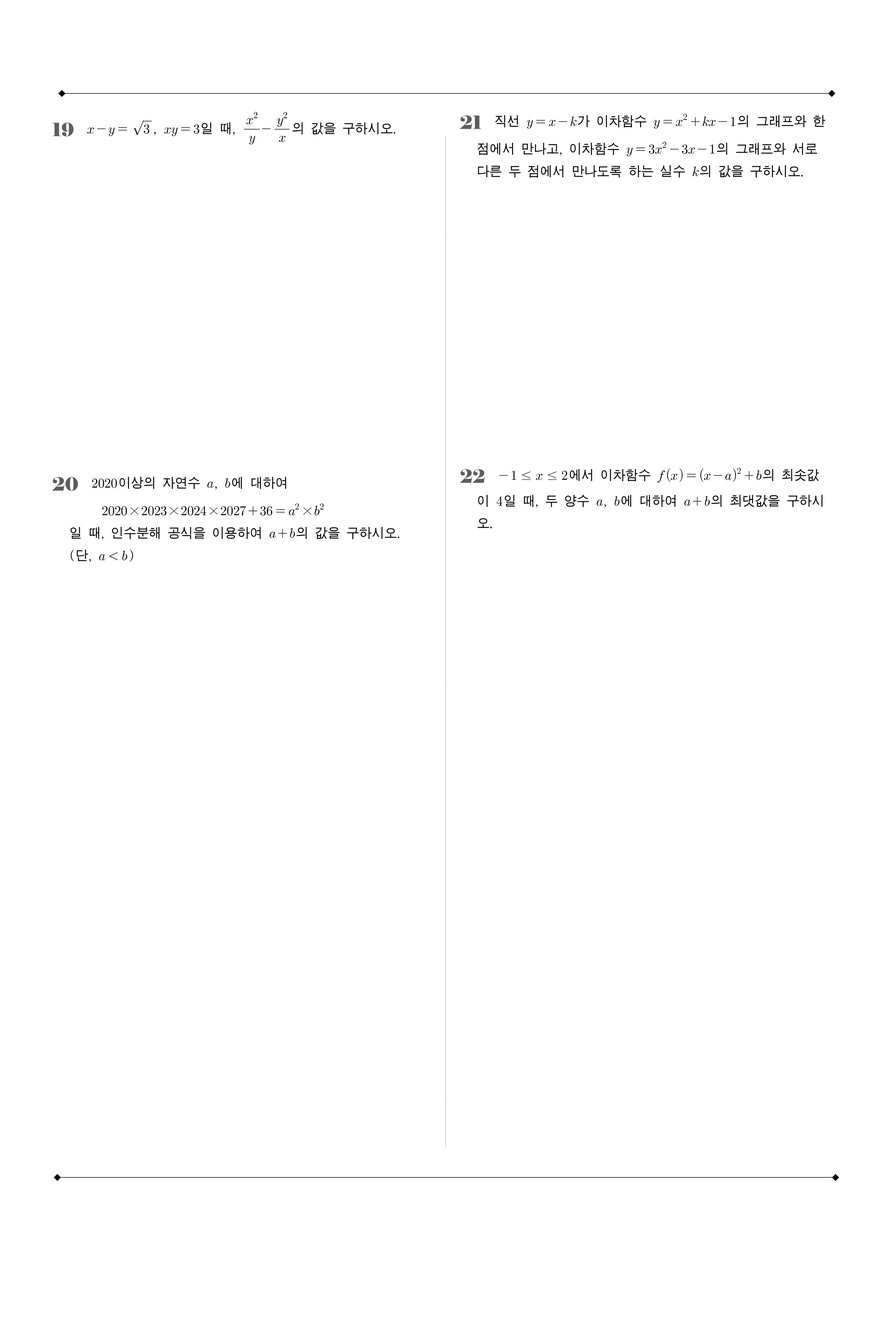problem: (36, 453, 435, 575), (450, 449, 828, 560), (457, 104, 837, 207), (40, 104, 428, 158)
